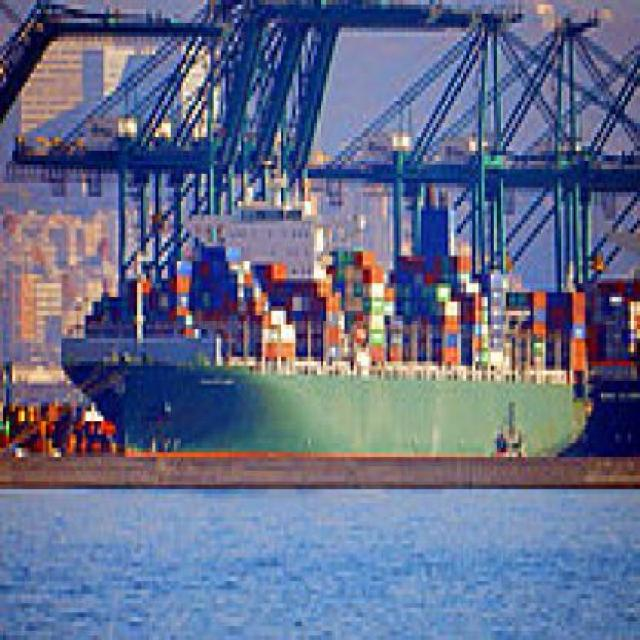container: (53, 180, 601, 477)
